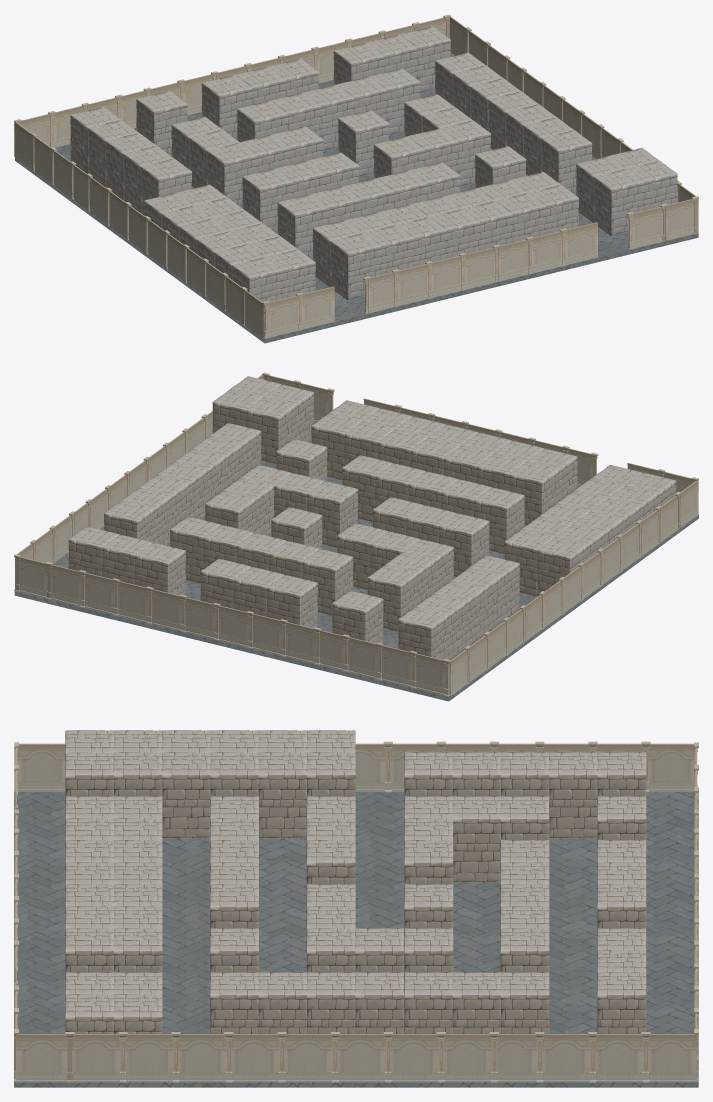
File: map3.glb
3 views of the same model, one above another, from view 1: azimuth 30°, elevation 25°; view 2: azimuth 150°, elevation 25°; view 3: azimuth 270°, elevation 25° (orthographic). The views are drawn at different scales.
Parts seen in each view (by area): view 1: tripo_node_31ce2f94-d425-4ca1-85f7-3b87e49a0e99.255, Annex's Golden Mosaic - Room A.058, Foundations of Stone: Grand Design.001; view 2: tripo_node_31ce2f94-d425-4ca1-85f7-3b87e49a0e99.255, Annex's Golden Mosaic - Room A.058, Foundations of Stone: Grand Design.001; view 3: tripo_node_31ce2f94-d425-4ca1-85f7-3b87e49a0e99.255, Foundations of Stone: Grand Design.001, Annex's Golden Mosaic - Room A.058.
Boxes of the visible parts, x1=… form: tripo_node_31ce2f94-d425-4ca1-85f7-3b87e49a0e99.255: x1=70, y1=26, x2=677, y2=320; Annex's Golden Mosaic - Room A.058: x1=14, y1=14, x2=698, y2=338; Foundations of Stone: Grand Design.001: x1=15, y1=52, x2=698, y2=343; tripo_node_31ce2f94-d425-4ca1-85f7-3b87e49a0e99.255: x1=68, y1=376, x2=676, y2=660; Annex's Golden Mosaic - Room A.058: x1=14, y1=372, x2=698, y2=697; Foundations of Stone: Grand Design.001: x1=14, y1=421, x2=698, y2=701; tripo_node_31ce2f94-d425-4ca1-85f7-3b87e49a0e99.255: x1=65, y1=730, x2=646, y2=1033; Foundations of Stone: Grand Design.001: x1=14, y1=792, x2=698, y2=1087; Annex's Golden Mosaic - Room A.058: x1=14, y1=741, x2=698, y2=1082.
Bounding box in the file's own units: 9.13 × 1.02 × 9.04.
Materials: 4 (4 with a texture image).
